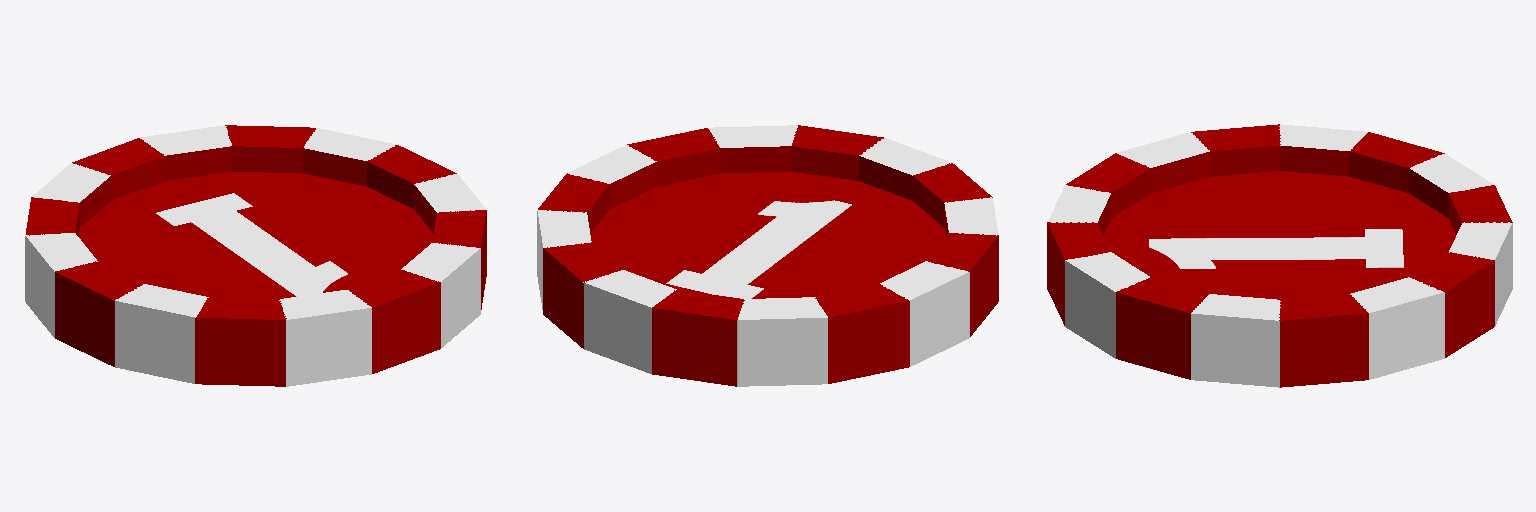
3 renders of one model, left to right at view 1: azimuth 30°, elevation 25°; view 2: azimuth 150°, elevation 25°; view 3: azimuth 270°, elevation 25°, orthographic.
Parts seen in each view (by area): view 1: Token; view 2: Token; view 3: Token.
Part boxes in pixels (x1,y1,x2,y2): Token: (25, 125, 486, 386); Token: (537, 125, 998, 386); Token: (1047, 124, 1512, 387).
Size of the model in its own units: 0.0636 by 0.0101 by 0.0636.
Materials: 1 (1 with a texture image).